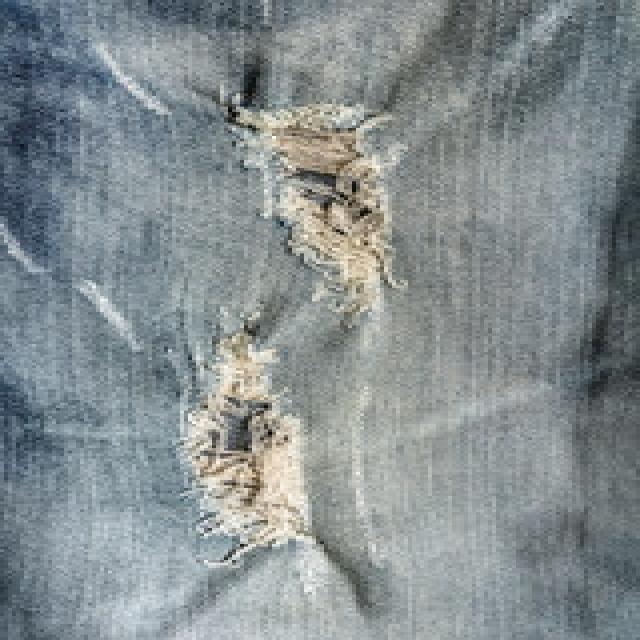Hole: (229, 100, 403, 327), (184, 328, 309, 560)
